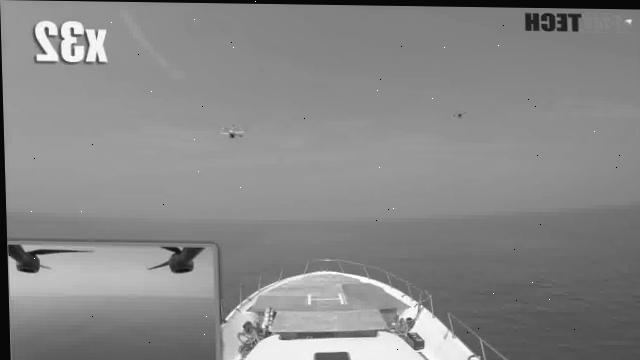drone: (211, 118, 255, 149), (444, 101, 471, 128)
